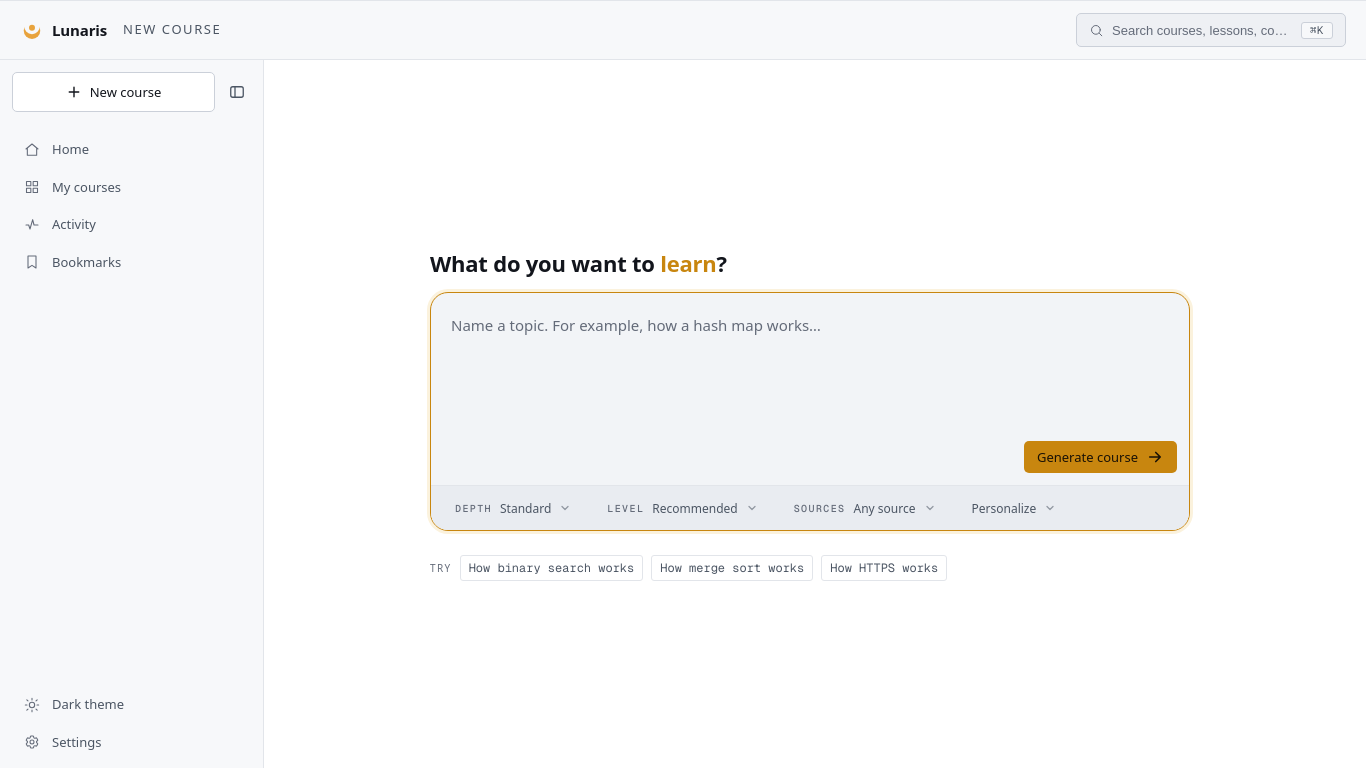
Test case: App — URL routing (live studio) › the composer at /new shows idle again after a build hands off to its course
In the text box labelled "topic": (810, 367) left=431, top=293, right=1189, bottom=441, type "binary search"
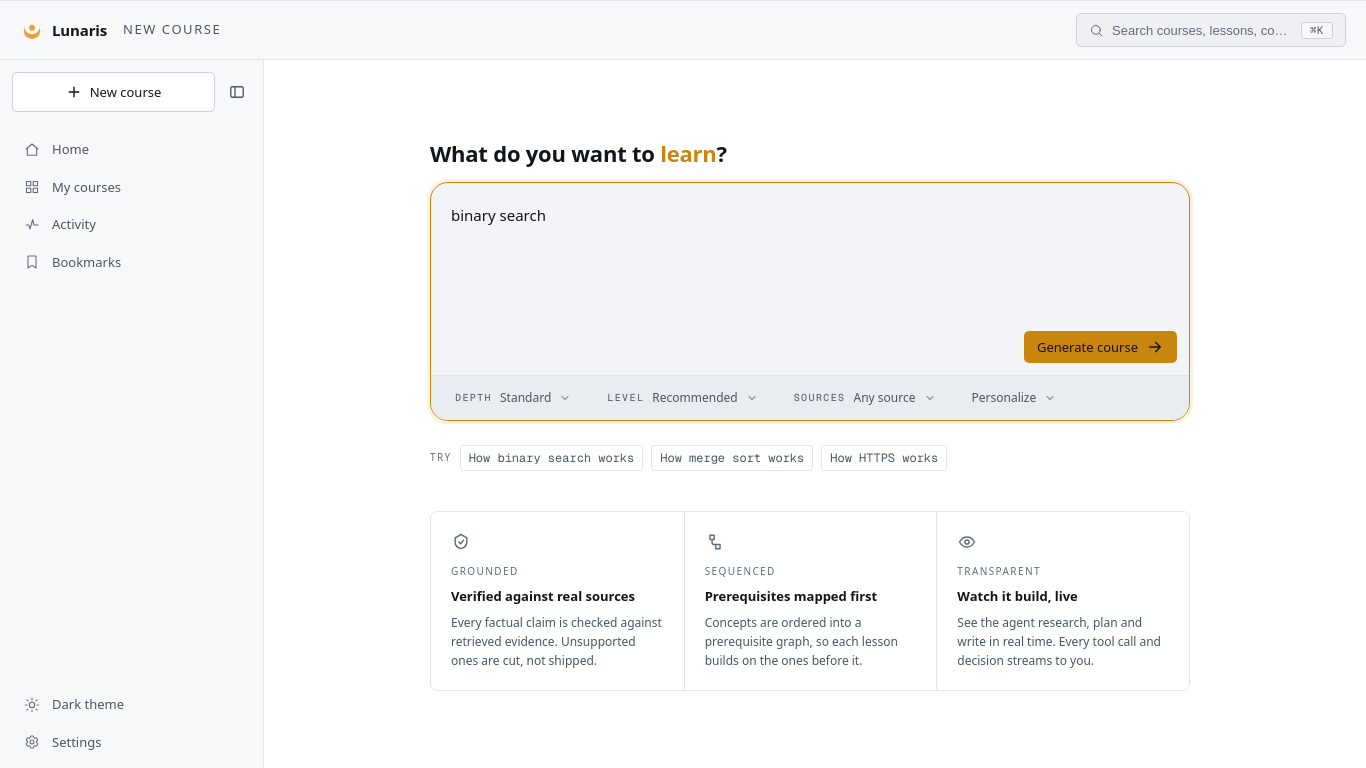
Click the button "Generate course": (1100, 347) left=1024, top=331, right=1177, bottom=363
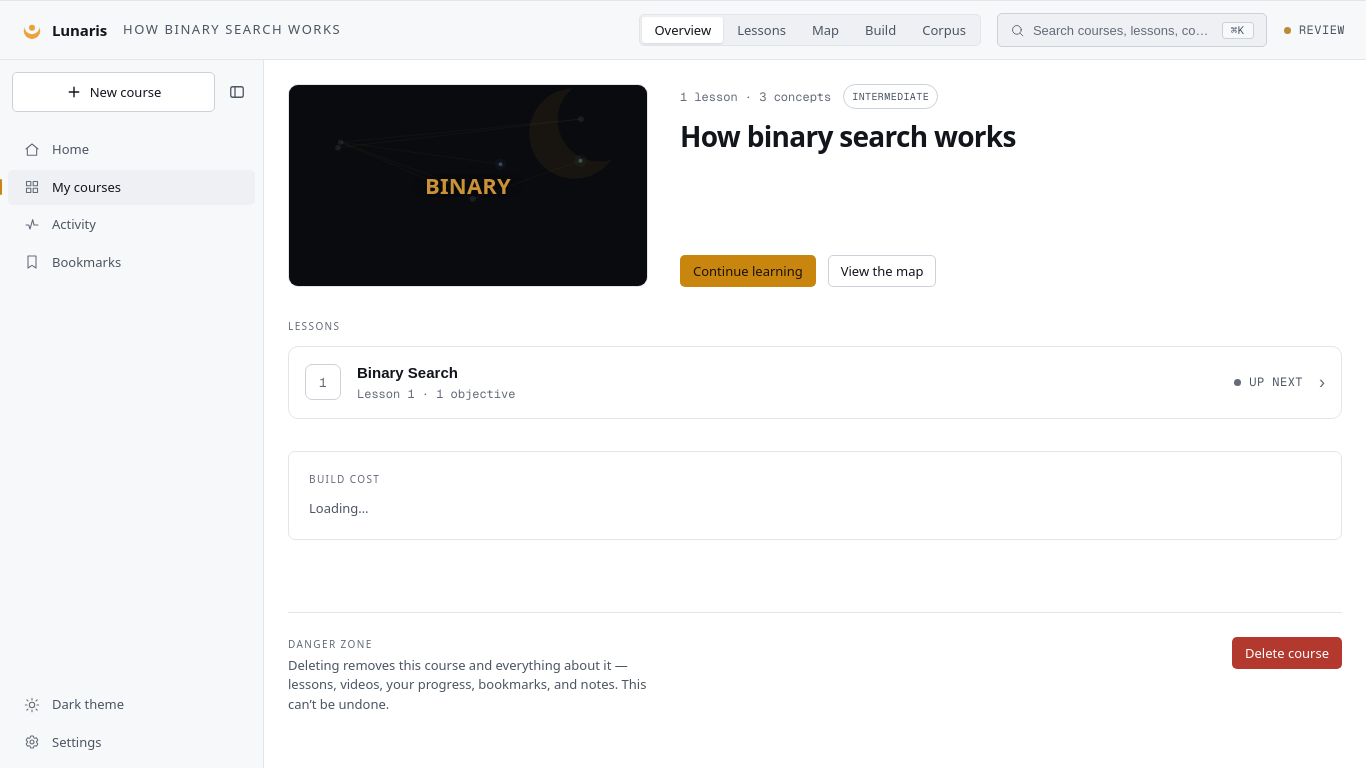
Now the heading "How binary search works" next to "Lunaris" is shown, box left=123, top=20, right=341, bottom=38
Click the button "New course": (114, 92) left=12, top=72, right=215, bottom=112
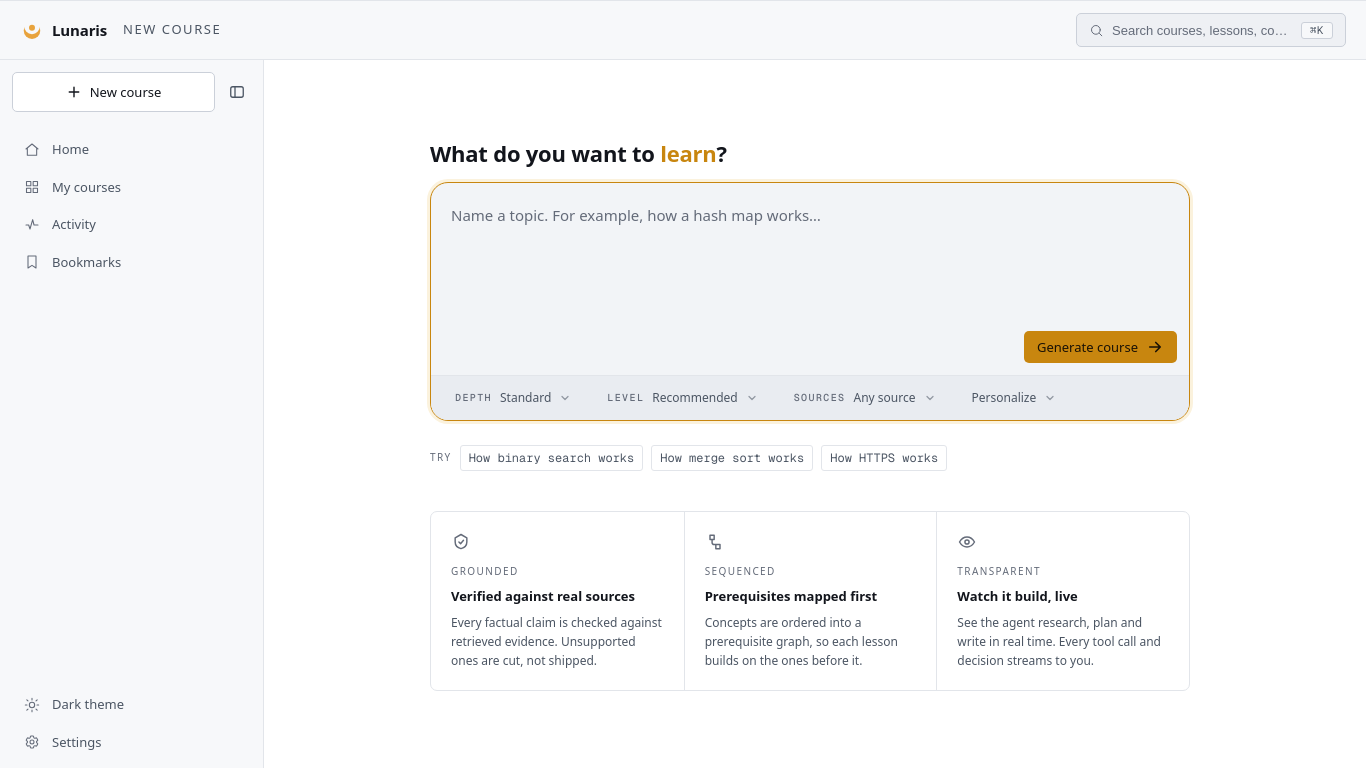
Now the heading "What do you want to learn?" is shown, box left=430, top=138, right=727, bottom=168
